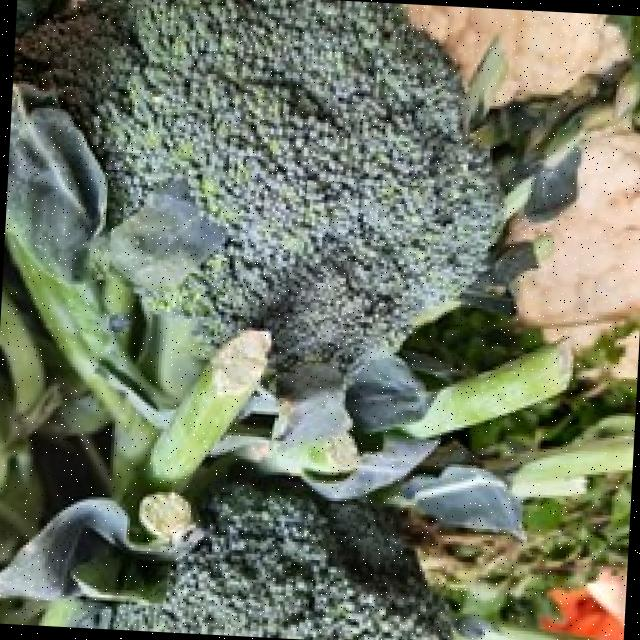Broccoli: (13, 0, 496, 369), (13, 0, 496, 369), (113, 471, 449, 640), (112, 472, 449, 640)
